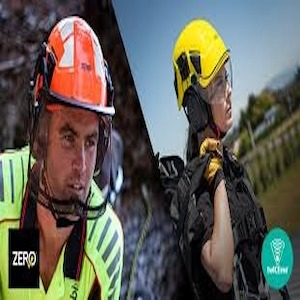safety: (34, 17, 114, 114), (173, 20, 230, 100)
